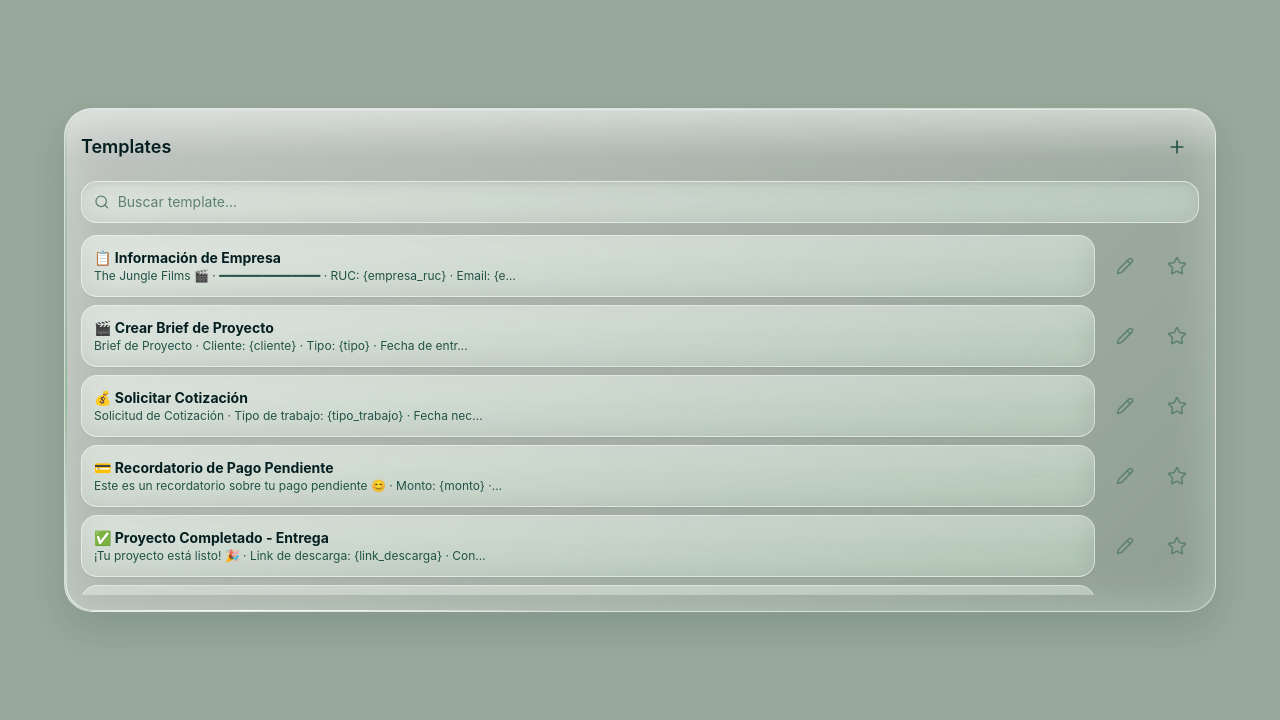
Test: TemplateListModal › shows an empty state when the search has no matches
Step 1. Type "xyz-no-existe" into the field with placeholder "Buscar template..." → (652, 202), box [118,192,1186,212]
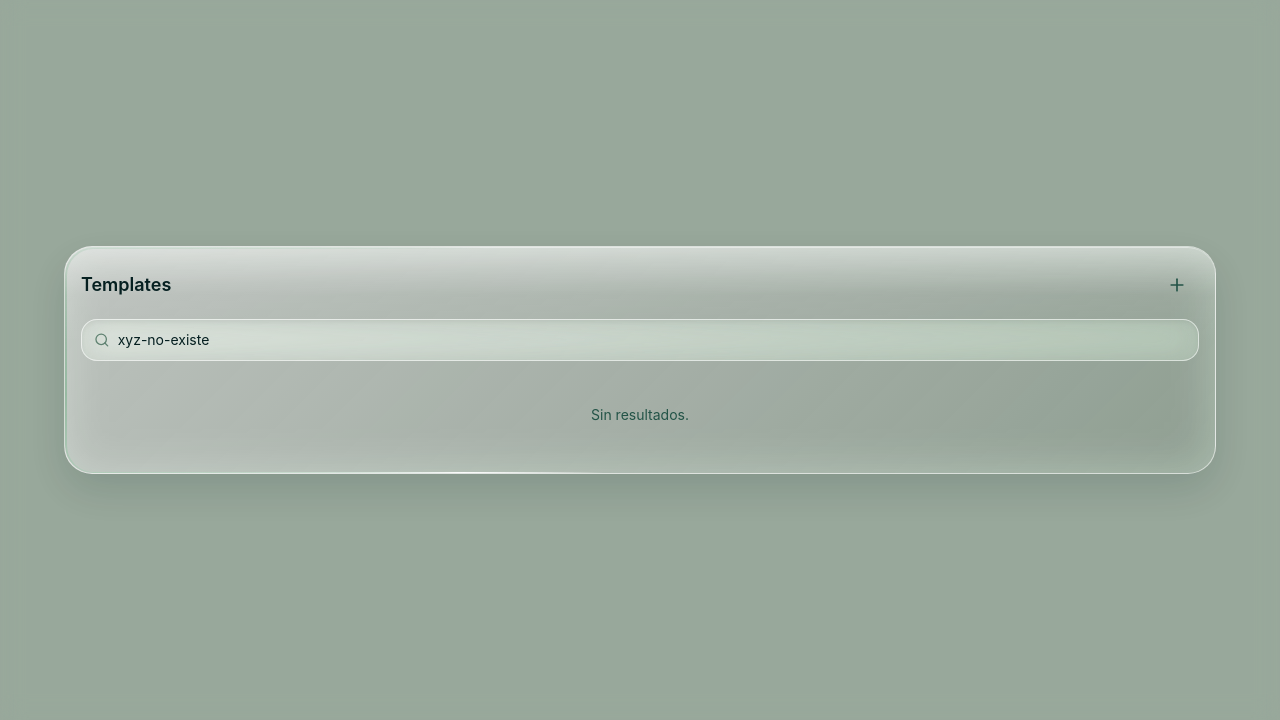
Expected: the text "Sin resultados." is shown, [591,406,689,423]
